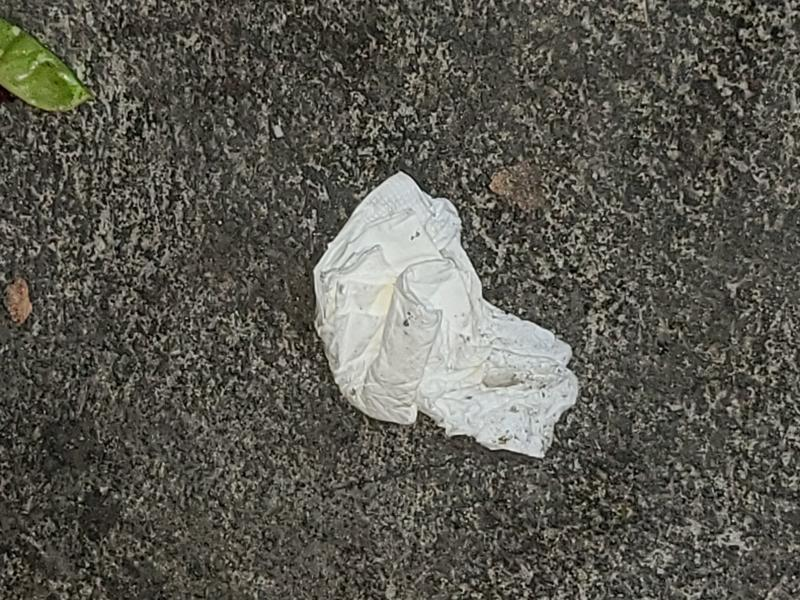papel: (311, 173, 581, 461)
